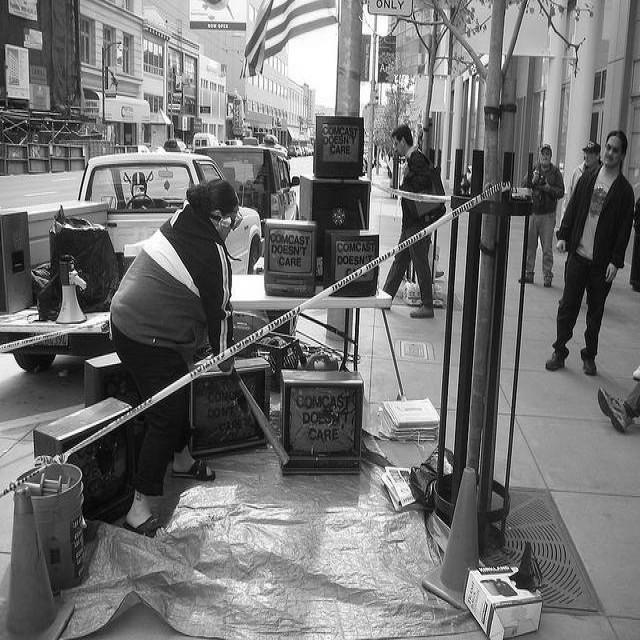vehicle: (1, 153, 267, 373), (206, 147, 301, 220), (192, 132, 218, 150), (127, 144, 165, 153), (163, 139, 189, 151), (226, 139, 244, 147), (289, 145, 298, 157), (296, 145, 306, 155), (304, 147, 312, 155)
